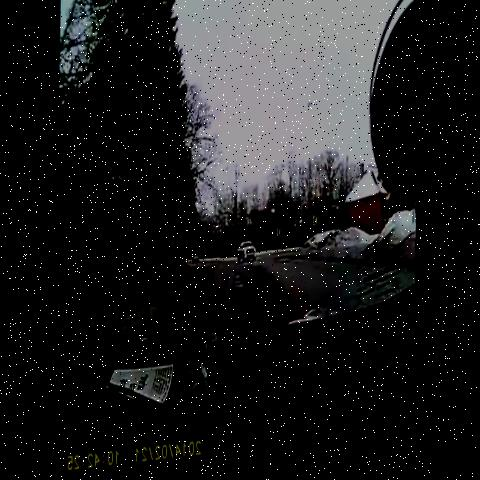pothole: (229, 268, 249, 305), (191, 294, 211, 320), (249, 263, 269, 286)
